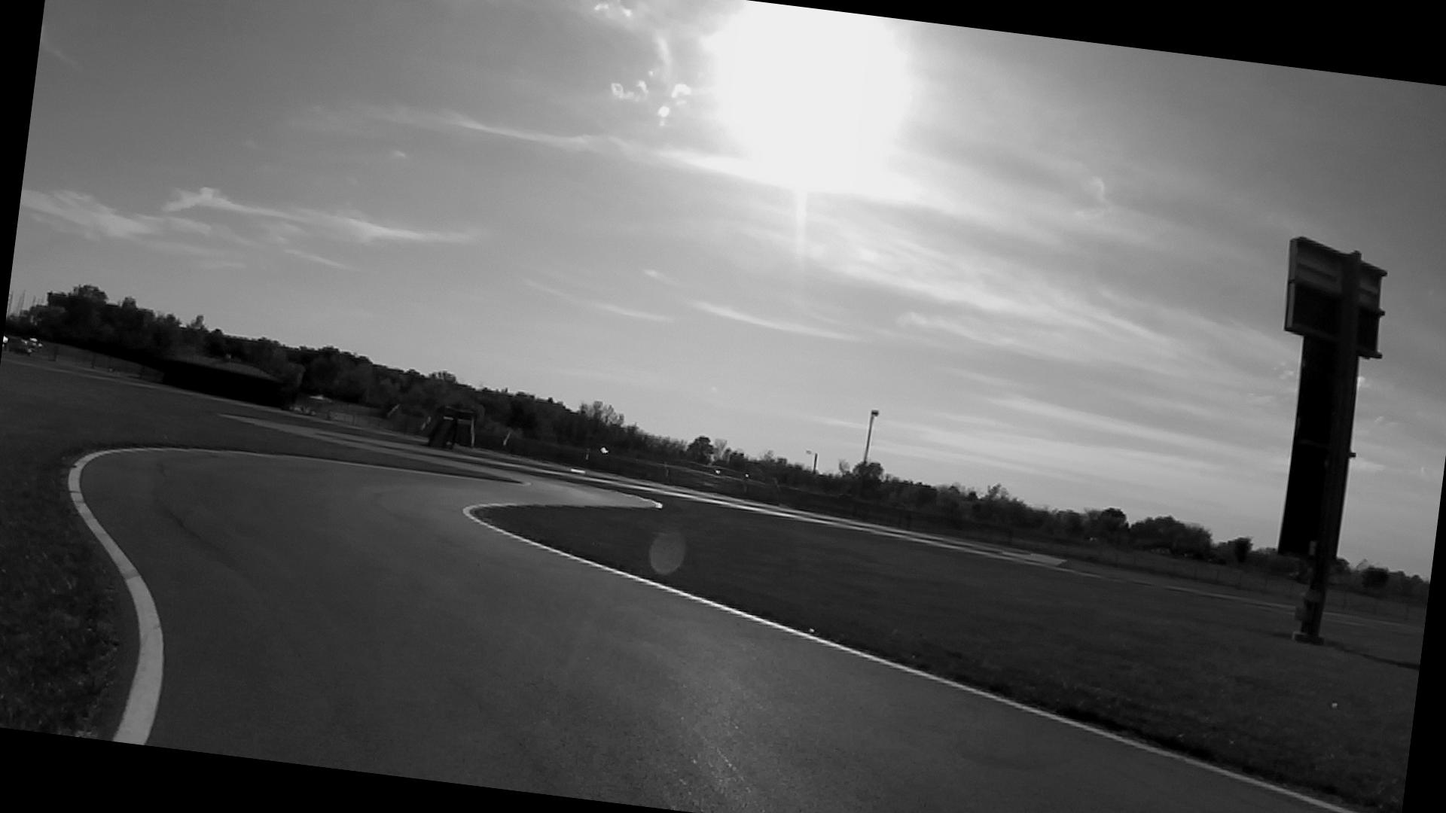white-line: (462, 502, 1365, 813), (65, 445, 467, 745), (619, 493, 661, 507)
